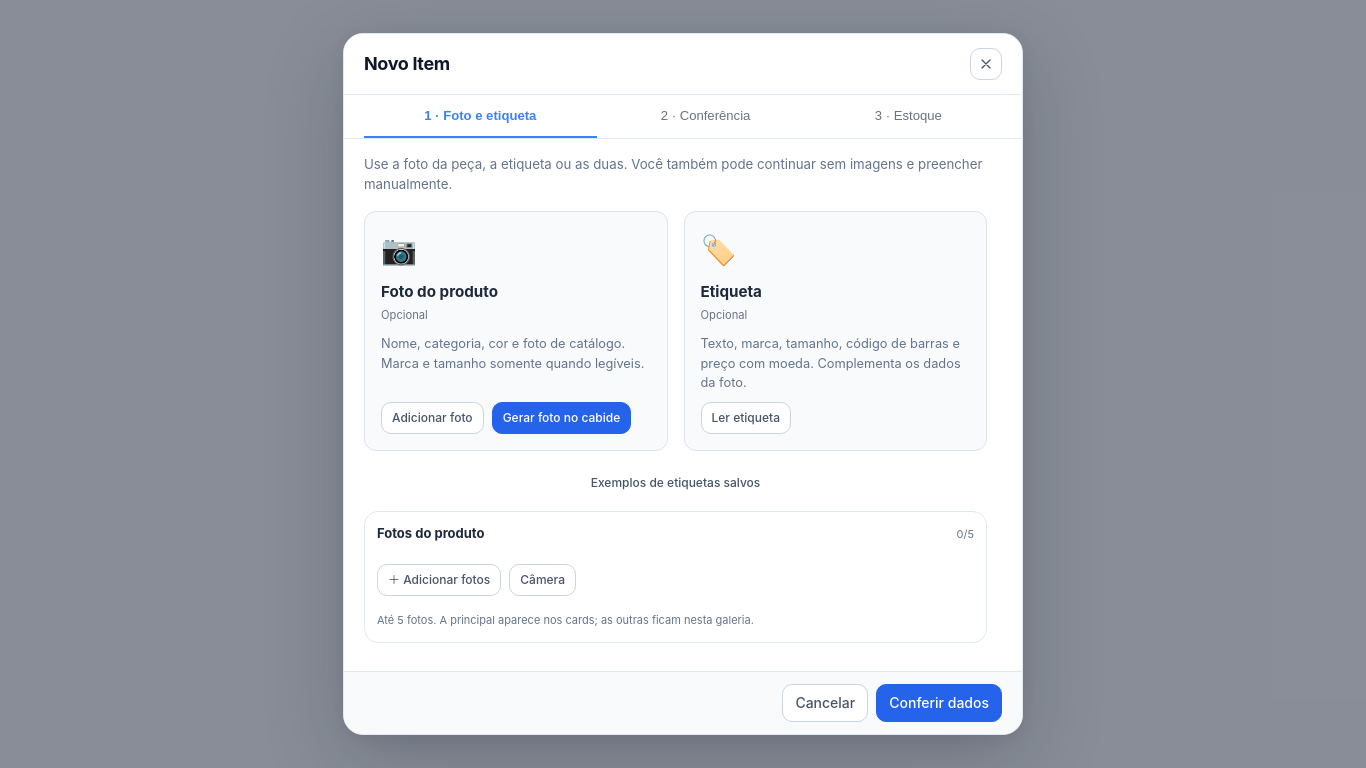
it: Initial stock registration failures › blocks uncertain network retries until the user checks inventory
Click the button "Conferir dados". click: (939,703)
box: [876, 684, 1002, 722]
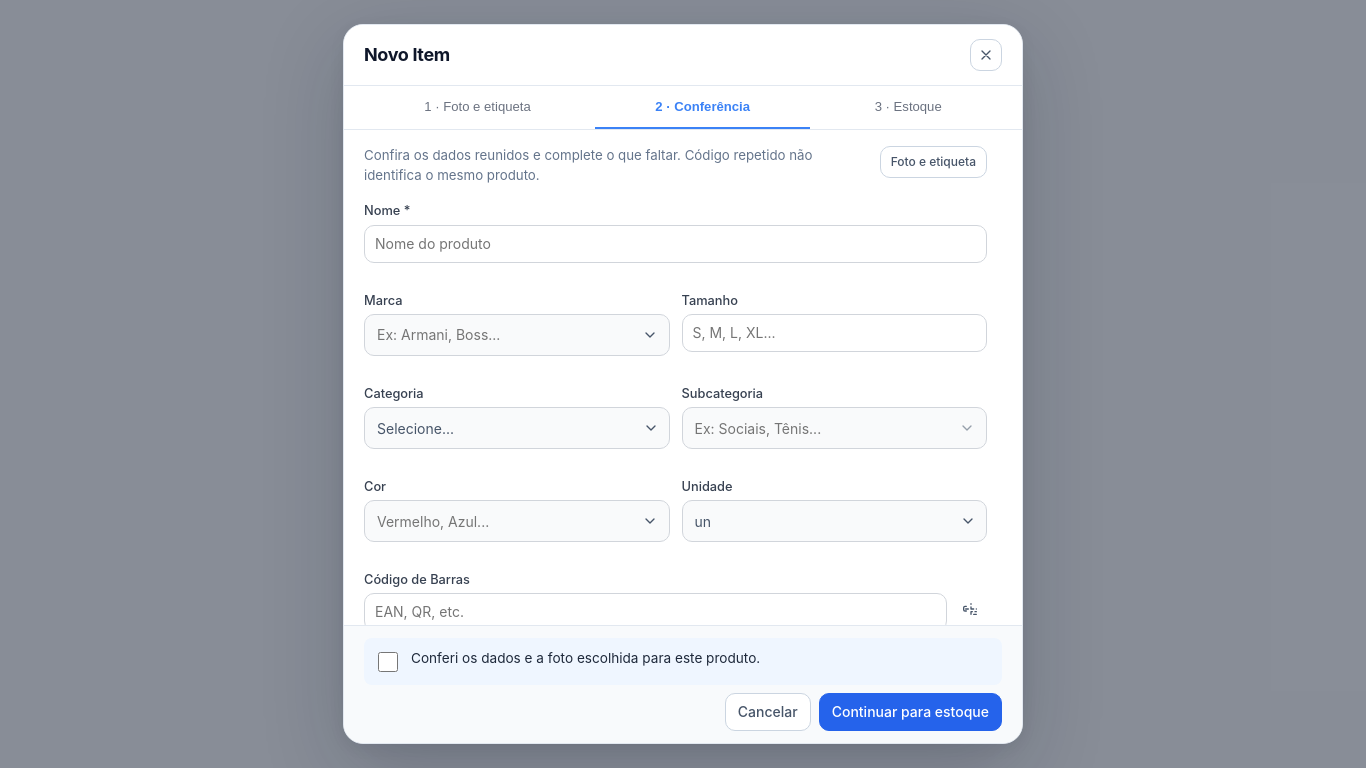
Type "Loja" into the field with placeholder "Nome do produto". click: (676,244)
box: [364, 225, 987, 263]
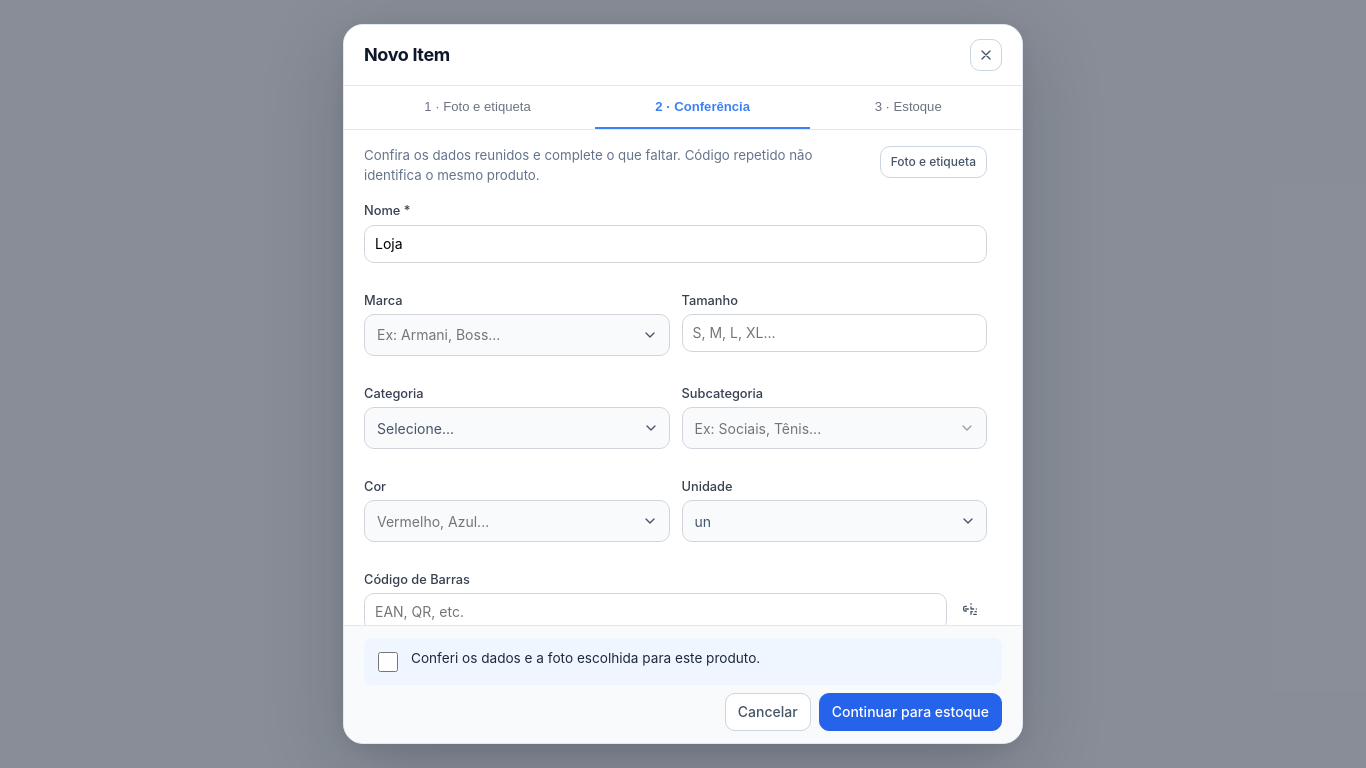
Click the checkbox labelled "Conferi os dados e a foto escolhida para este produto.". click: (388,662)
box: [378, 652, 398, 672]
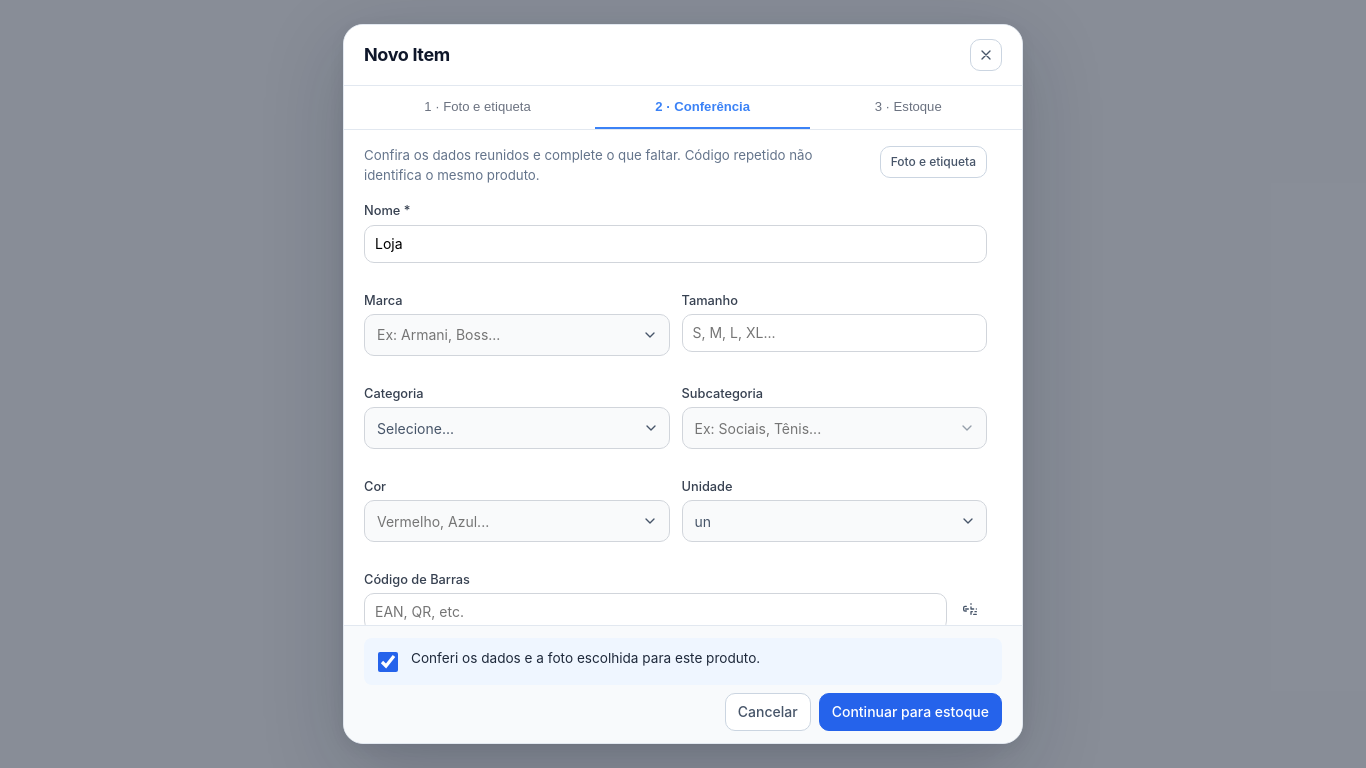
Click the button "Continuar para estoque". click: (910,712)
box: [819, 693, 1002, 731]
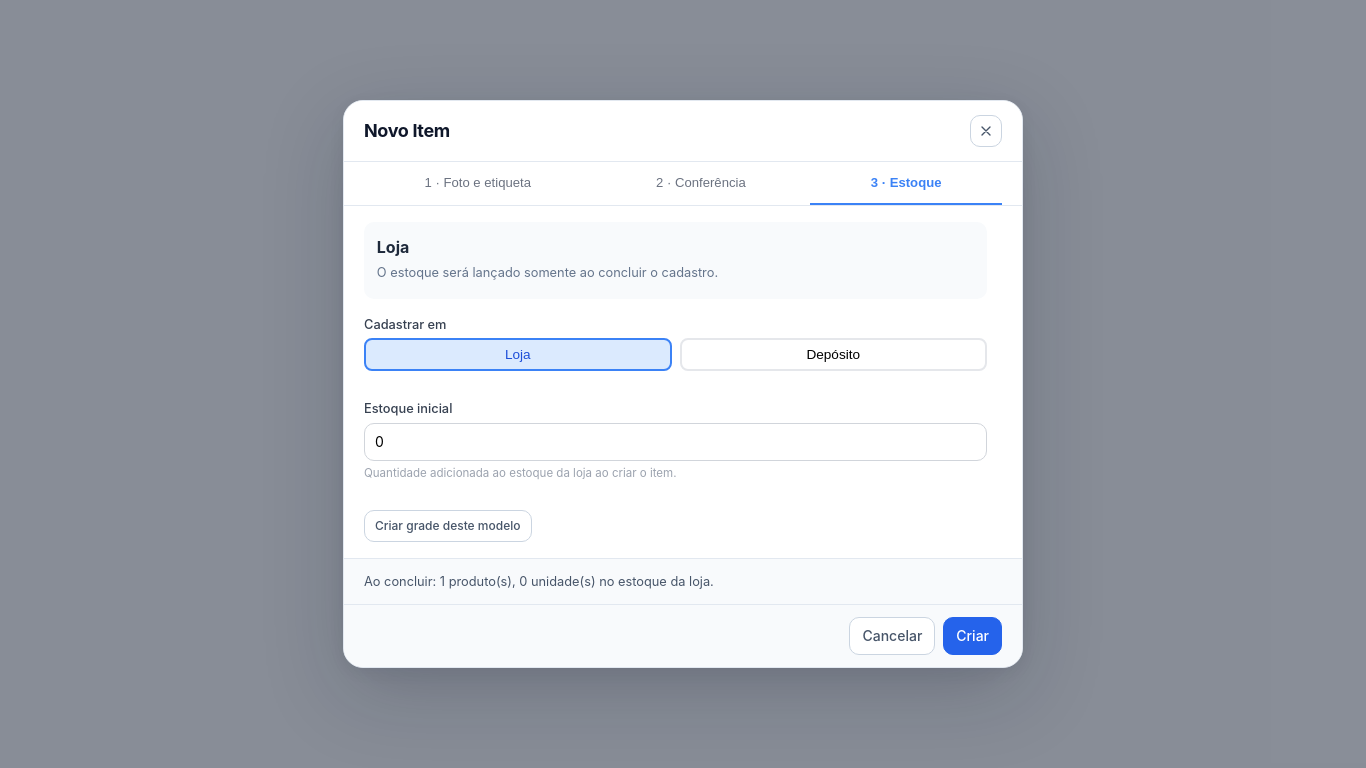
Click the button "Criar". click: (973,636)
box: [943, 617, 1002, 655]
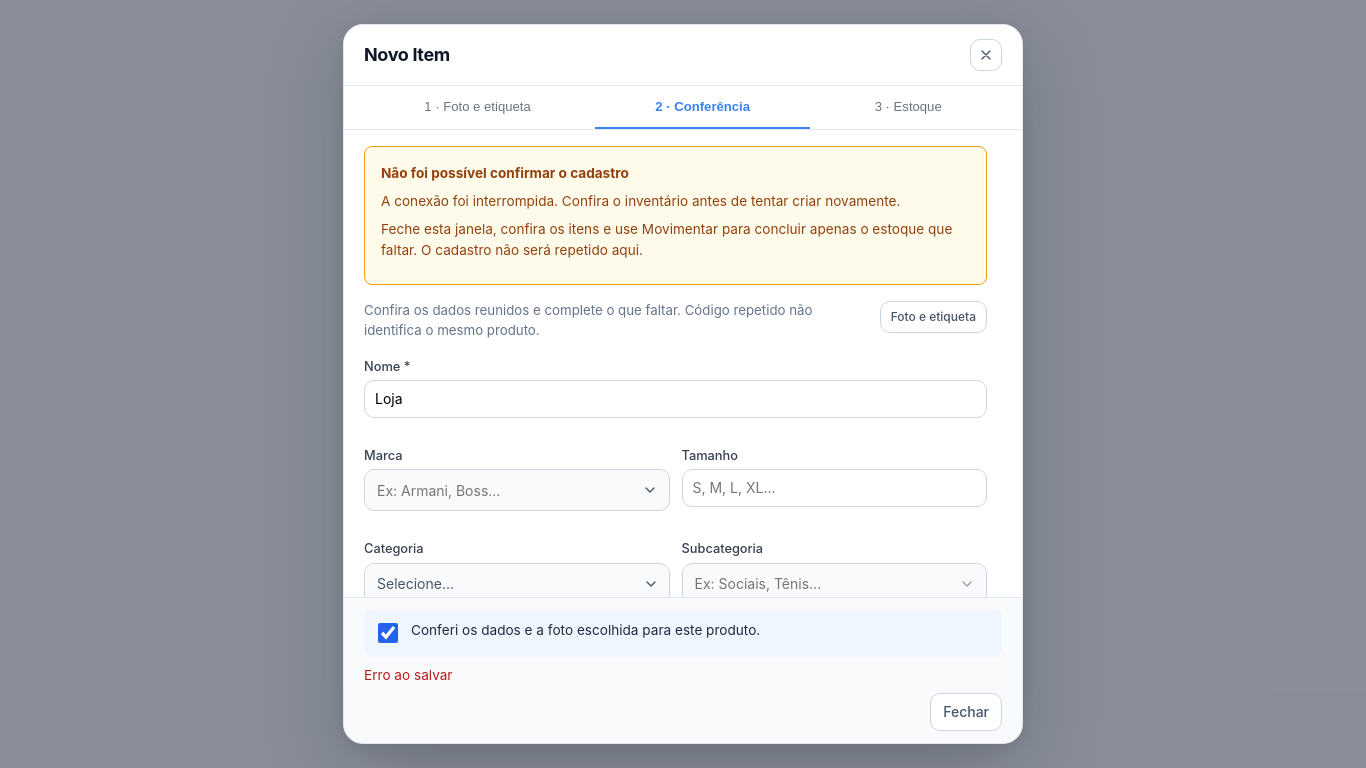
Check: the message that starts with "Não foi possível confirmar o cadastro" shows "Confira o inventário antes de tentar criar novamente.", box [381, 193, 900, 209]
